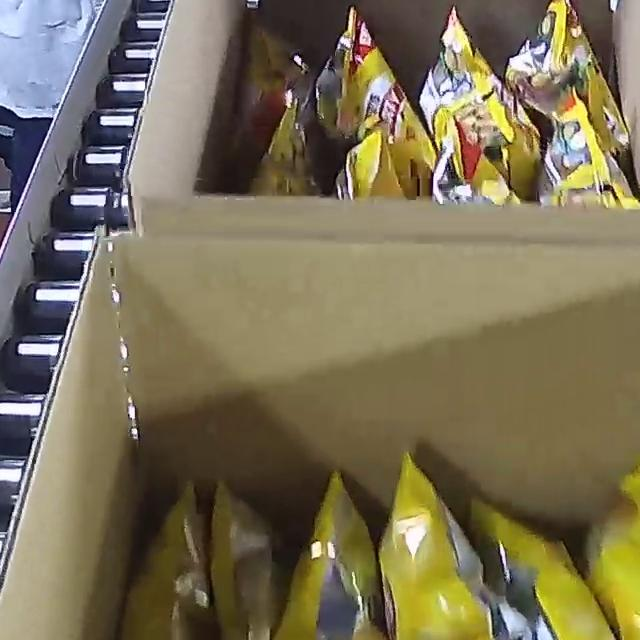salted: (134, 440, 640, 640), (247, 2, 640, 207)
